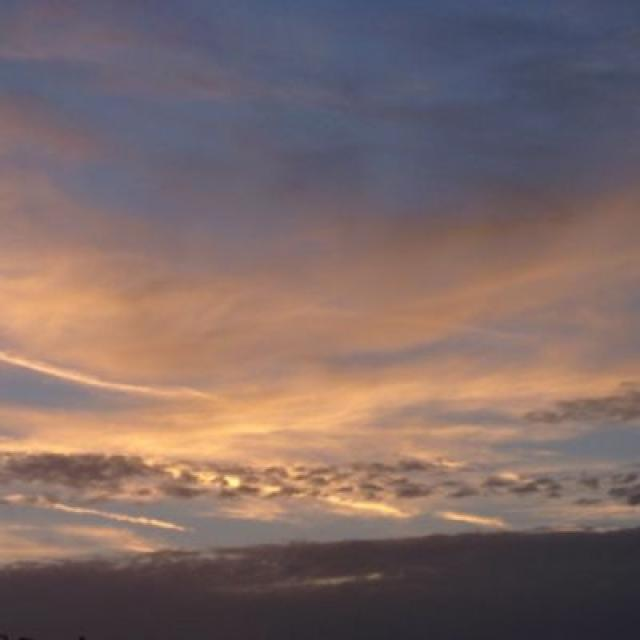Ci: (1, 101, 640, 559)
